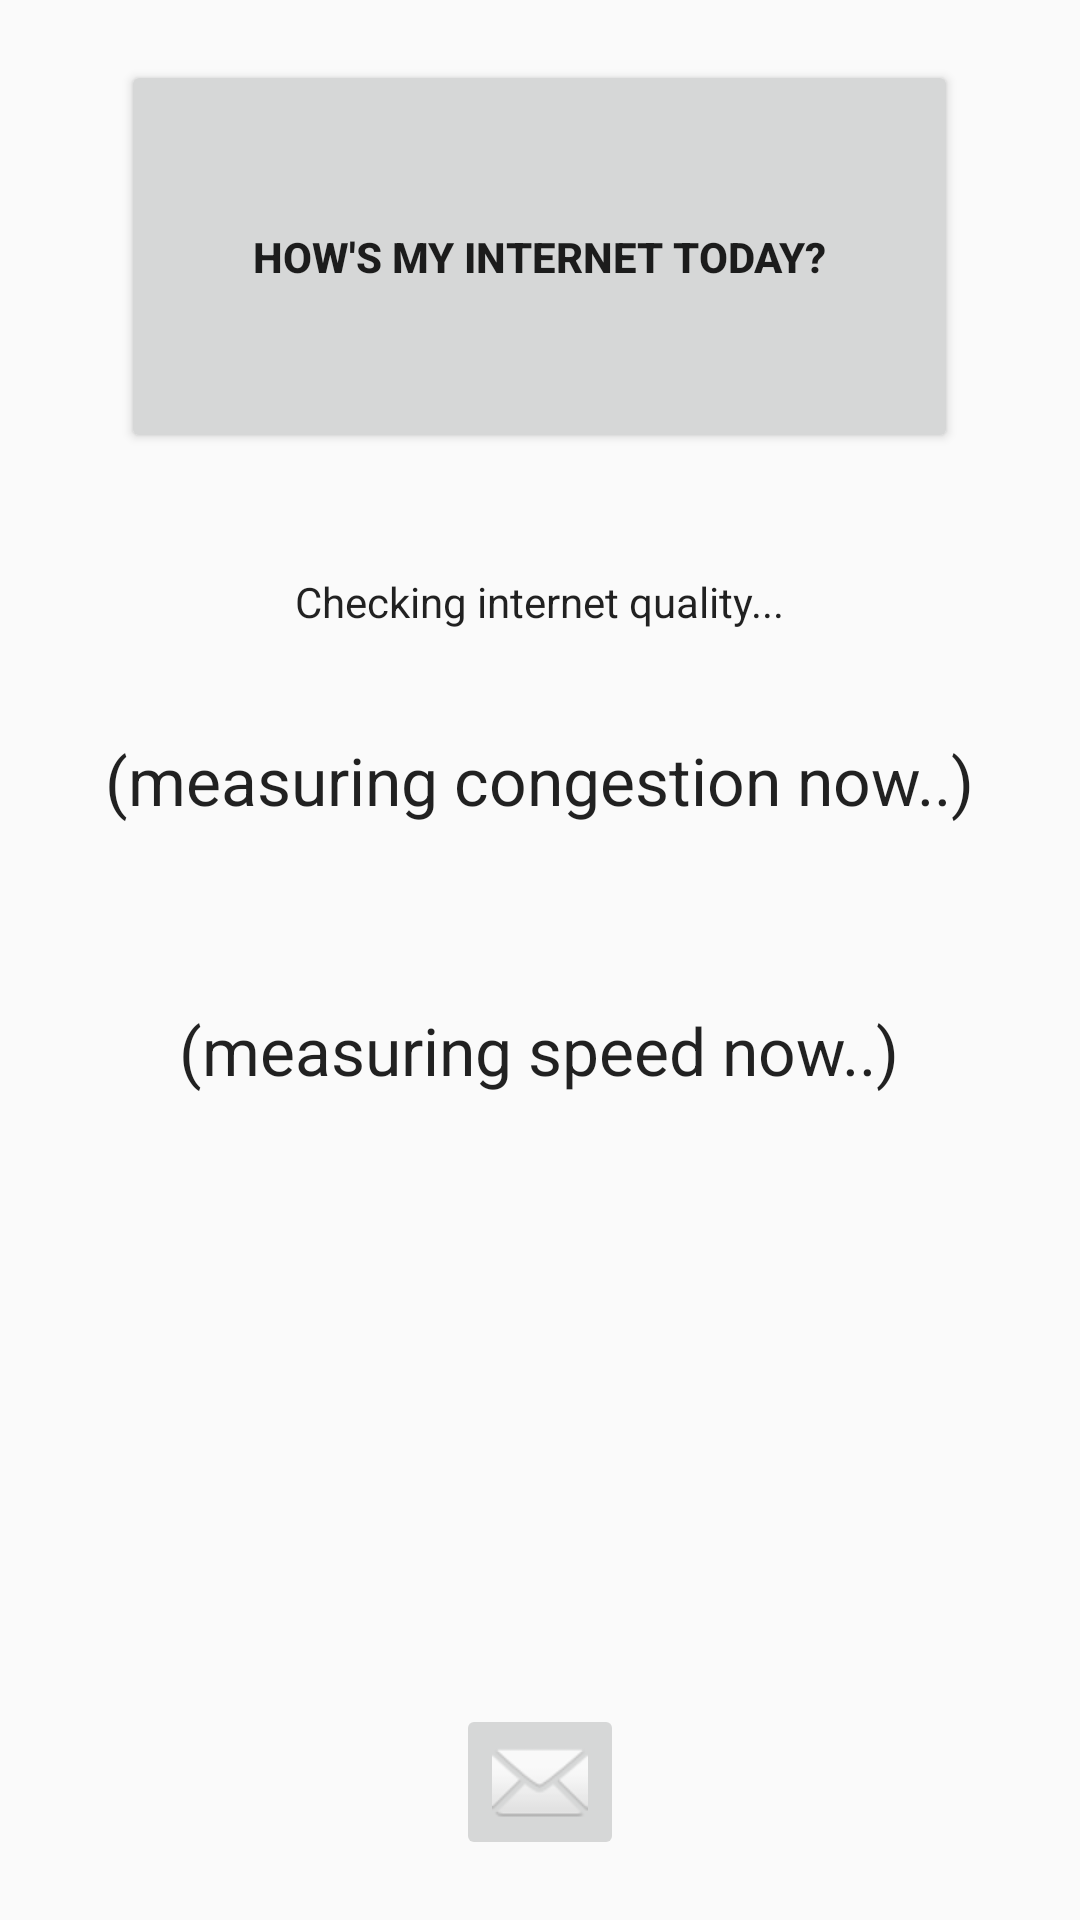

Icon bounding boxes for this 1080*1920 phone screenshot, format (x1, y1, x2, y2):
email: (468, 1722, 612, 1842)
